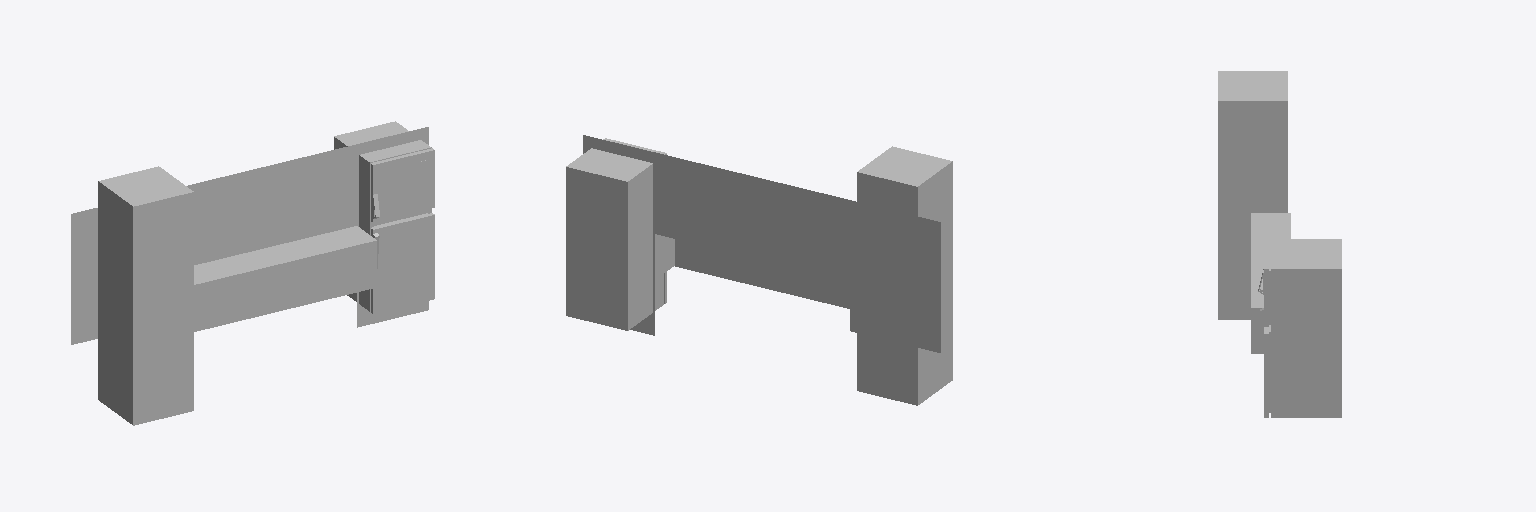
File: fridge.obj
3 views of the same model, side by side, from view 1: azimuth 30°, elevation 25°; view 2: azimuth 150°, elevation 25°; view 3: azimuth 270°, elevation 25° (orthographic).
Visible parts, largest first — view 1: Plane, Cube_Cube.001; view 2: Plane, Cube_Cube.001; view 3: Plane, Cube_Cube.001.
Boxes of the visible parts, box(x1,y1,x2,y2) form: Plane: box(71, 127, 428, 425); Cube_Cube.001: box(334, 121, 434, 313); Plane: box(583, 135, 952, 405); Cube_Cube.001: box(566, 138, 666, 330); Plane: box(1218, 71, 1290, 353); Cube_Cube.001: box(1258, 239, 1341, 417).
Size of the model in its own units: 82.59 by 48.33 by 24.89.